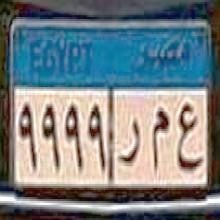9: (17, 99, 40, 179), (64, 96, 86, 176), (40, 98, 62, 173), (88, 101, 108, 175)
ain: (176, 98, 202, 174)
meem: (148, 103, 171, 176)
raa: (117, 109, 144, 173)
